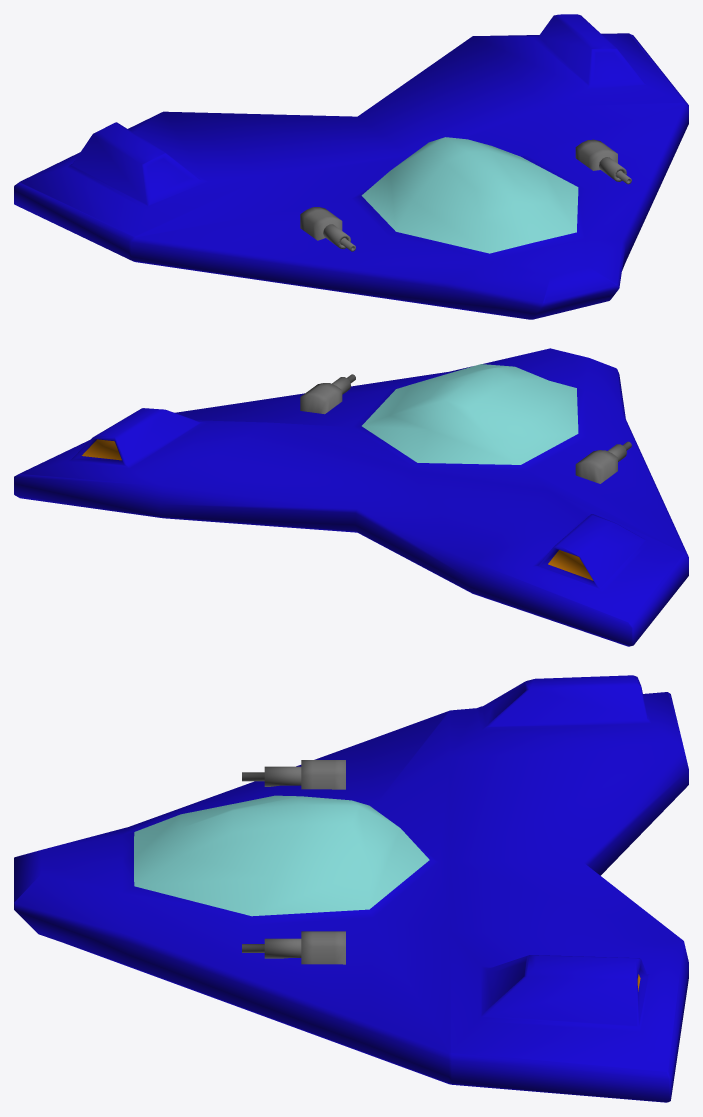
File: PlayerShip.fbx
3 renders of one model, top to bottom at view 1: azimuth 30°, elevation 25°; view 2: azimuth 150°, elevation 25°; view 3: azimuth 270°, elevation 25°, orthographic. The views are drawn at different scales.
Visible parts, largest first — view 1: Plane; view 2: Plane; view 3: Plane.
Boxes of the visible parts, x1,y1,x2,y2 form: Plane: (14,14,688,319); Plane: (14,348,688,646); Plane: (14,675,688,1102).
Bounding box in the file's own units: 223 × 30.59 × 165.
